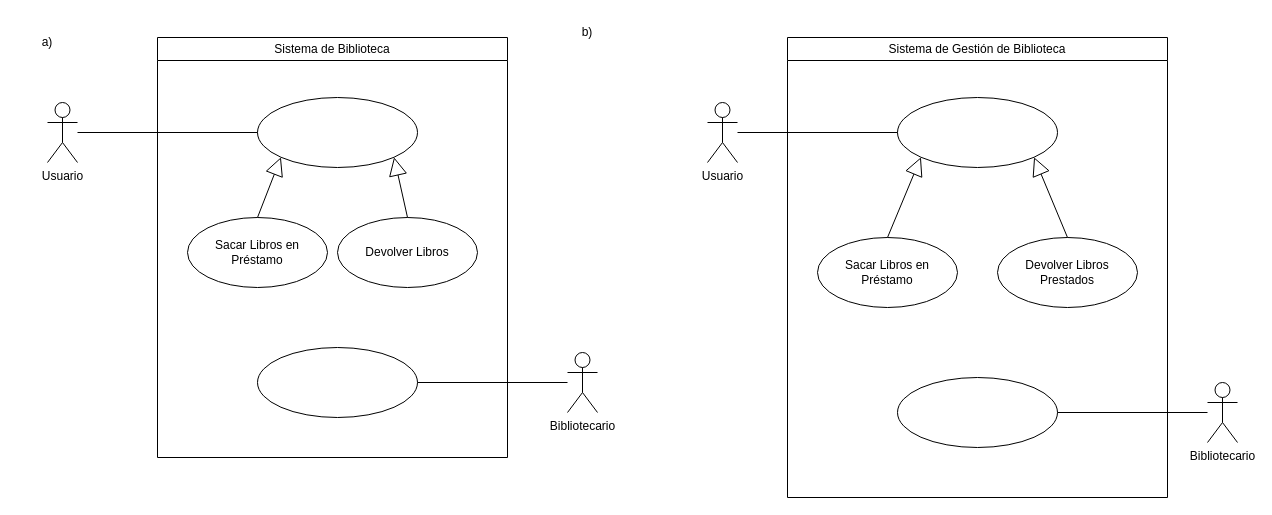
The diagram is 1272 pixels wide and 515 high, and some of its shapes have lost their labels. Each missing label, with the centre of its shape:
Actualizar Catálogo: point 337,382
Actualizar Catálogo Diario: point 977,412
Gestionar Acciones de Libros: point 337,132
Realizar Acción de Libros: point 977,132
